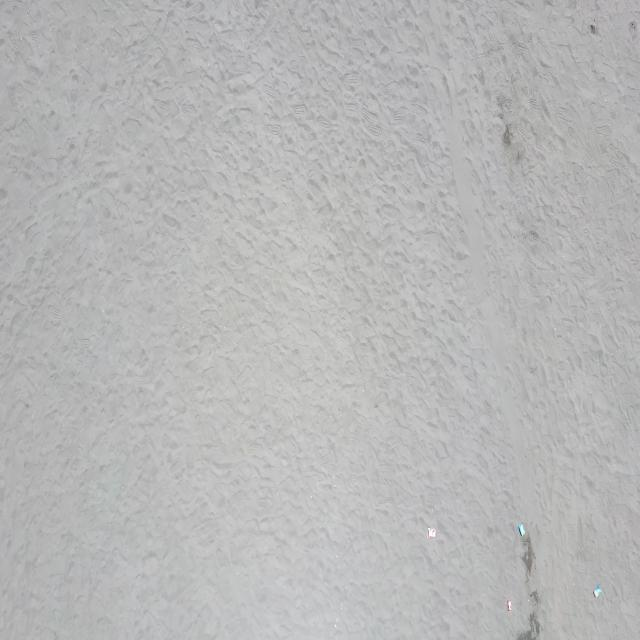Garbage: (593, 584, 602, 595), (517, 523, 524, 535), (427, 527, 435, 536), (507, 600, 511, 611)
